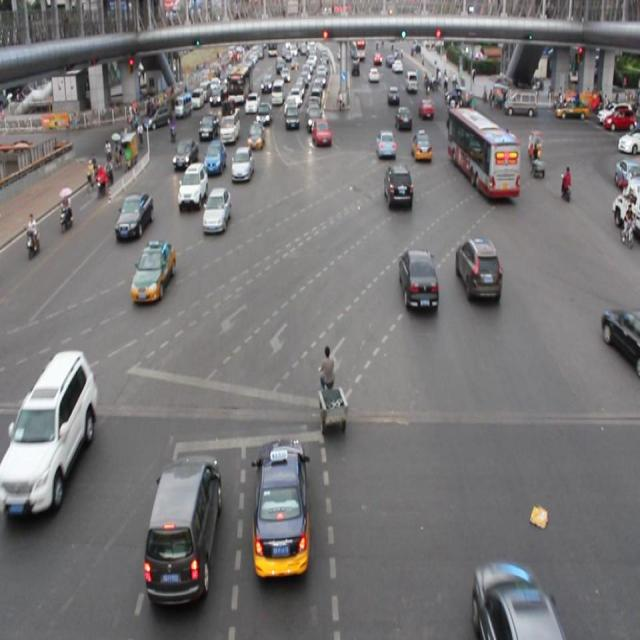car: (1, 349, 96, 517), (250, 440, 308, 579), (472, 563, 557, 640), (454, 238, 500, 306), (602, 307, 640, 379), (132, 242, 175, 302), (397, 249, 438, 310), (115, 191, 152, 242), (178, 161, 208, 214), (383, 164, 413, 211), (202, 186, 230, 232), (173, 136, 198, 170), (231, 145, 252, 184), (205, 136, 225, 174), (311, 117, 331, 152), (375, 127, 395, 162), (410, 128, 430, 162), (246, 115, 265, 150), (394, 106, 412, 131), (200, 112, 216, 140)
truck: (143, 452, 220, 603), (220, 100, 240, 144)
van: (447, 107, 518, 199)
